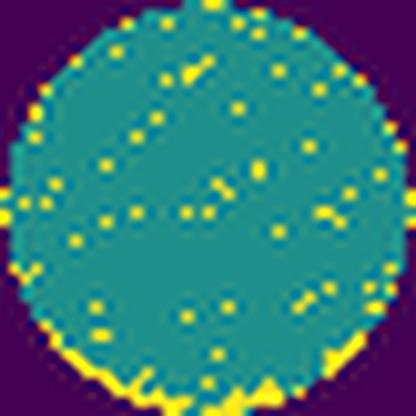Edge-Loc: (37, 316, 194, 416), (200, 375, 294, 416), (314, 323, 376, 381)
